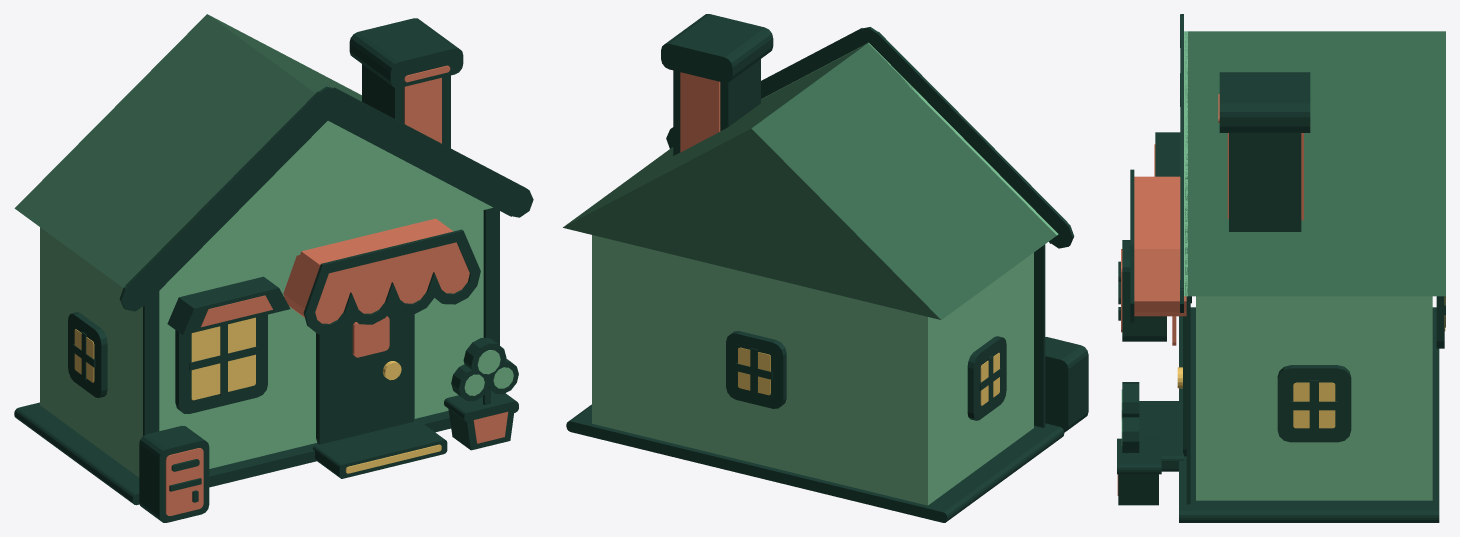
3 views of the same model, side by side, from view 1: azimuth 30°, elevation 25°; view 2: azimuth 150°, elevation 25°; view 3: azimuth 270°, elevation 25° (orthographic). The views are drawn at different scales.
Parts seen in each view (by area): view 1: Rent Free house; view 2: Rent Free house; view 3: Rent Free house.
Boxes of the visible parts, x1,y1,x2,y2 form: Rent Free house: [14, 14, 533, 522]; Rent Free house: [563, 14, 1088, 522]; Rent Free house: [1117, 14, 1445, 522].
Bounding box in the file's own units: 1.14 × 0.9757 × 0.7143.
